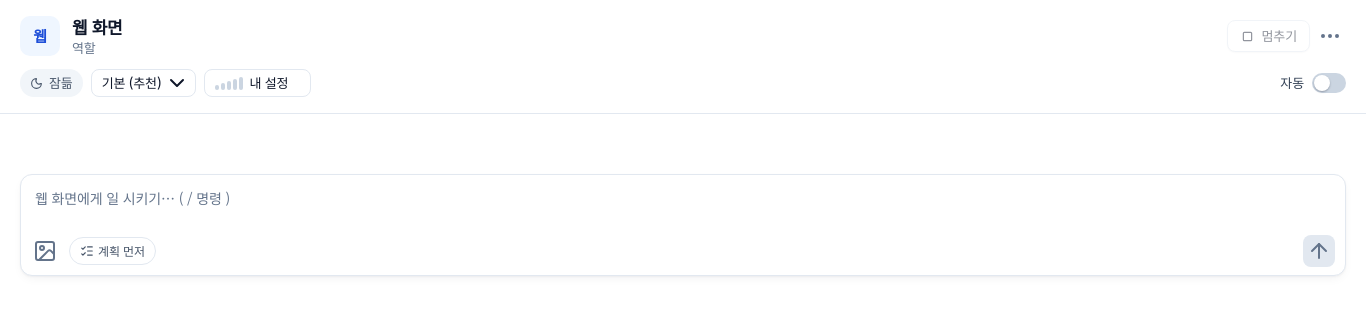
Test: AgentMenu › 지금 재우기 › 잠든 에이전트는 항목 없이 연다 — 묻기는 하고, 답이 재울 수 있다고 하면 그때 보인다
Click the button named "메뉴": (1330, 36) [1314, 20, 1346, 52]
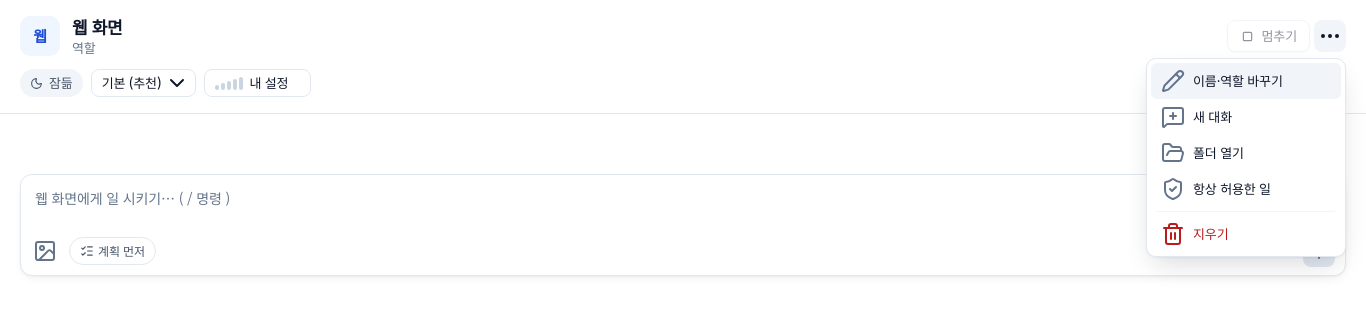
Expected: the menu item "지금 재우기" is not shown
Click the button named "메뉴": (1330, 36) [1314, 20, 1346, 52]
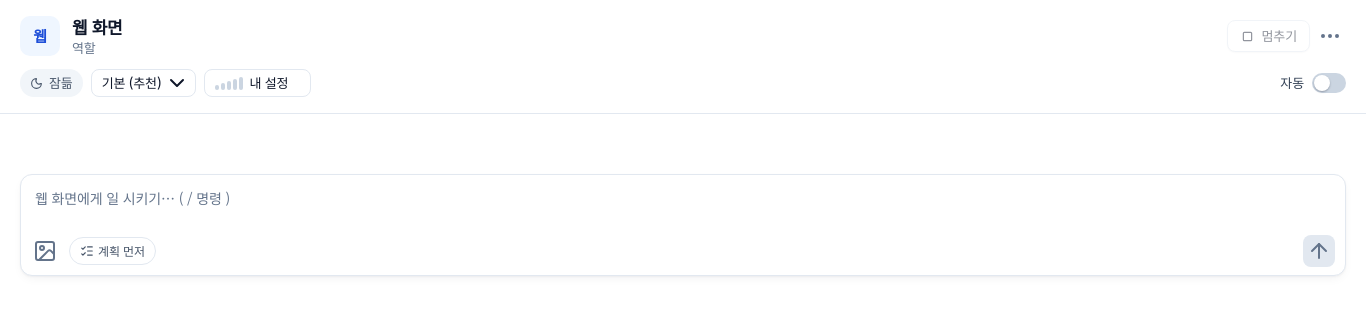
Click the button named "메뉴": (1330, 36) [1314, 20, 1346, 52]
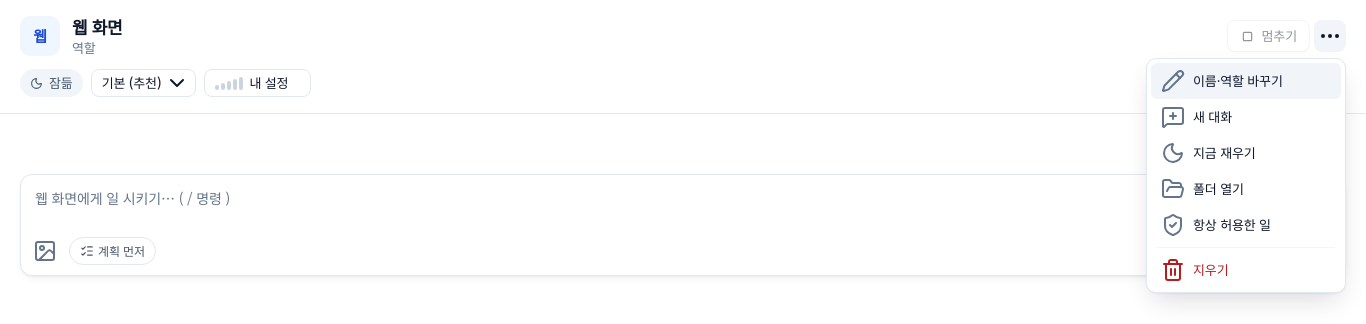
Now the menu item "지금 재우기" is enabled, box [1151, 135, 1341, 171]
